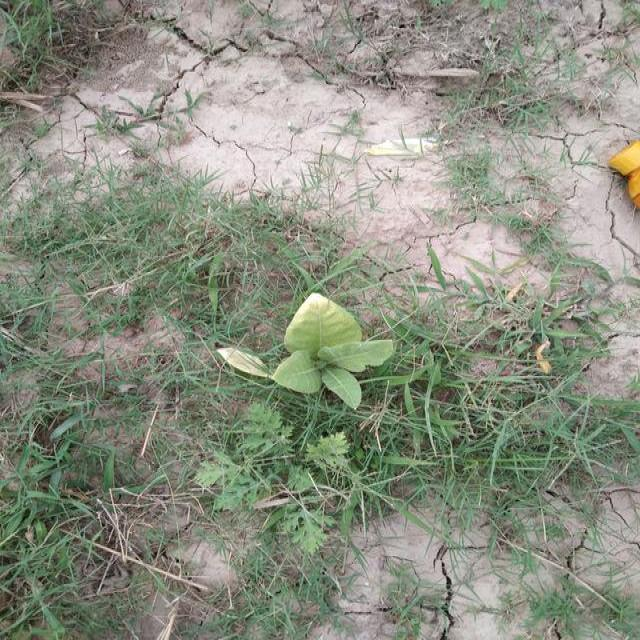crop: (215, 283, 400, 421)
